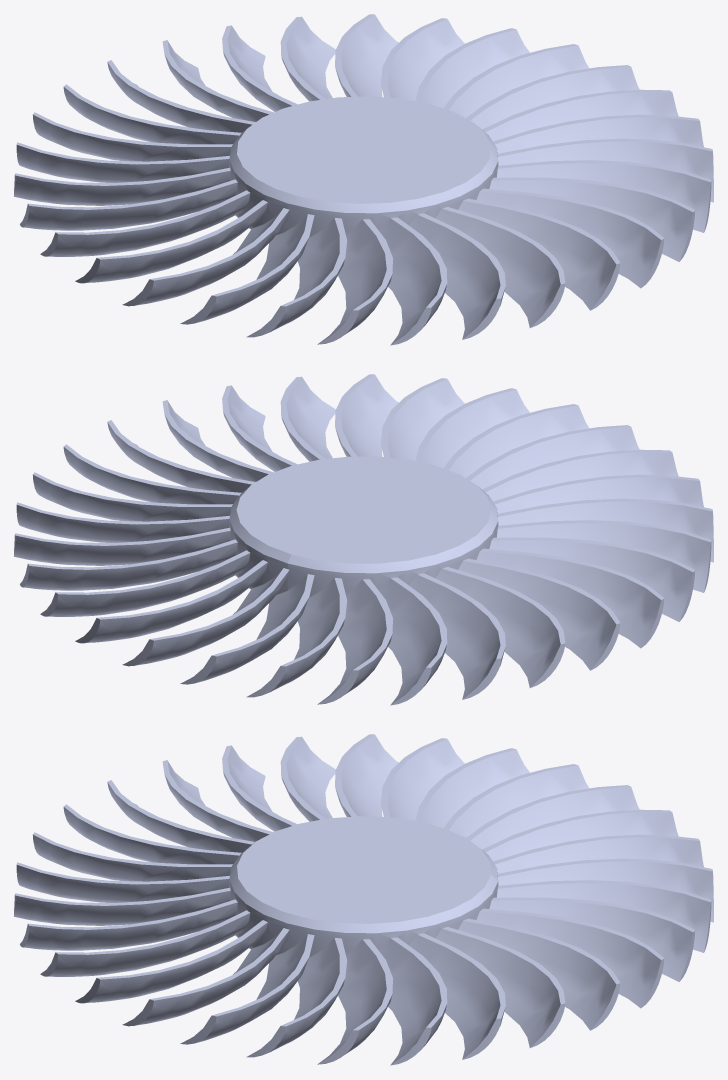
The model's file is fan_1.dae.
3 views of the same model, one above another, from view 1: azimuth 30°, elevation 25°; view 2: azimuth 150°, elevation 25°; view 3: azimuth 270°, elevation 25° (orthographic).
Parts seen in each view (by area): view 1: fan_1; view 2: fan_1; view 3: fan_1.
Boxes of the visible parts, x1=… form: fan_1: x1=14, y1=14, x2=713, y2=345; fan_1: x1=14, y1=374, x2=713, y2=705; fan_1: x1=14, y1=734, x2=713, y2=1065.
Size of the model in its own units: 0.7799 by 0.06 by 0.78.
